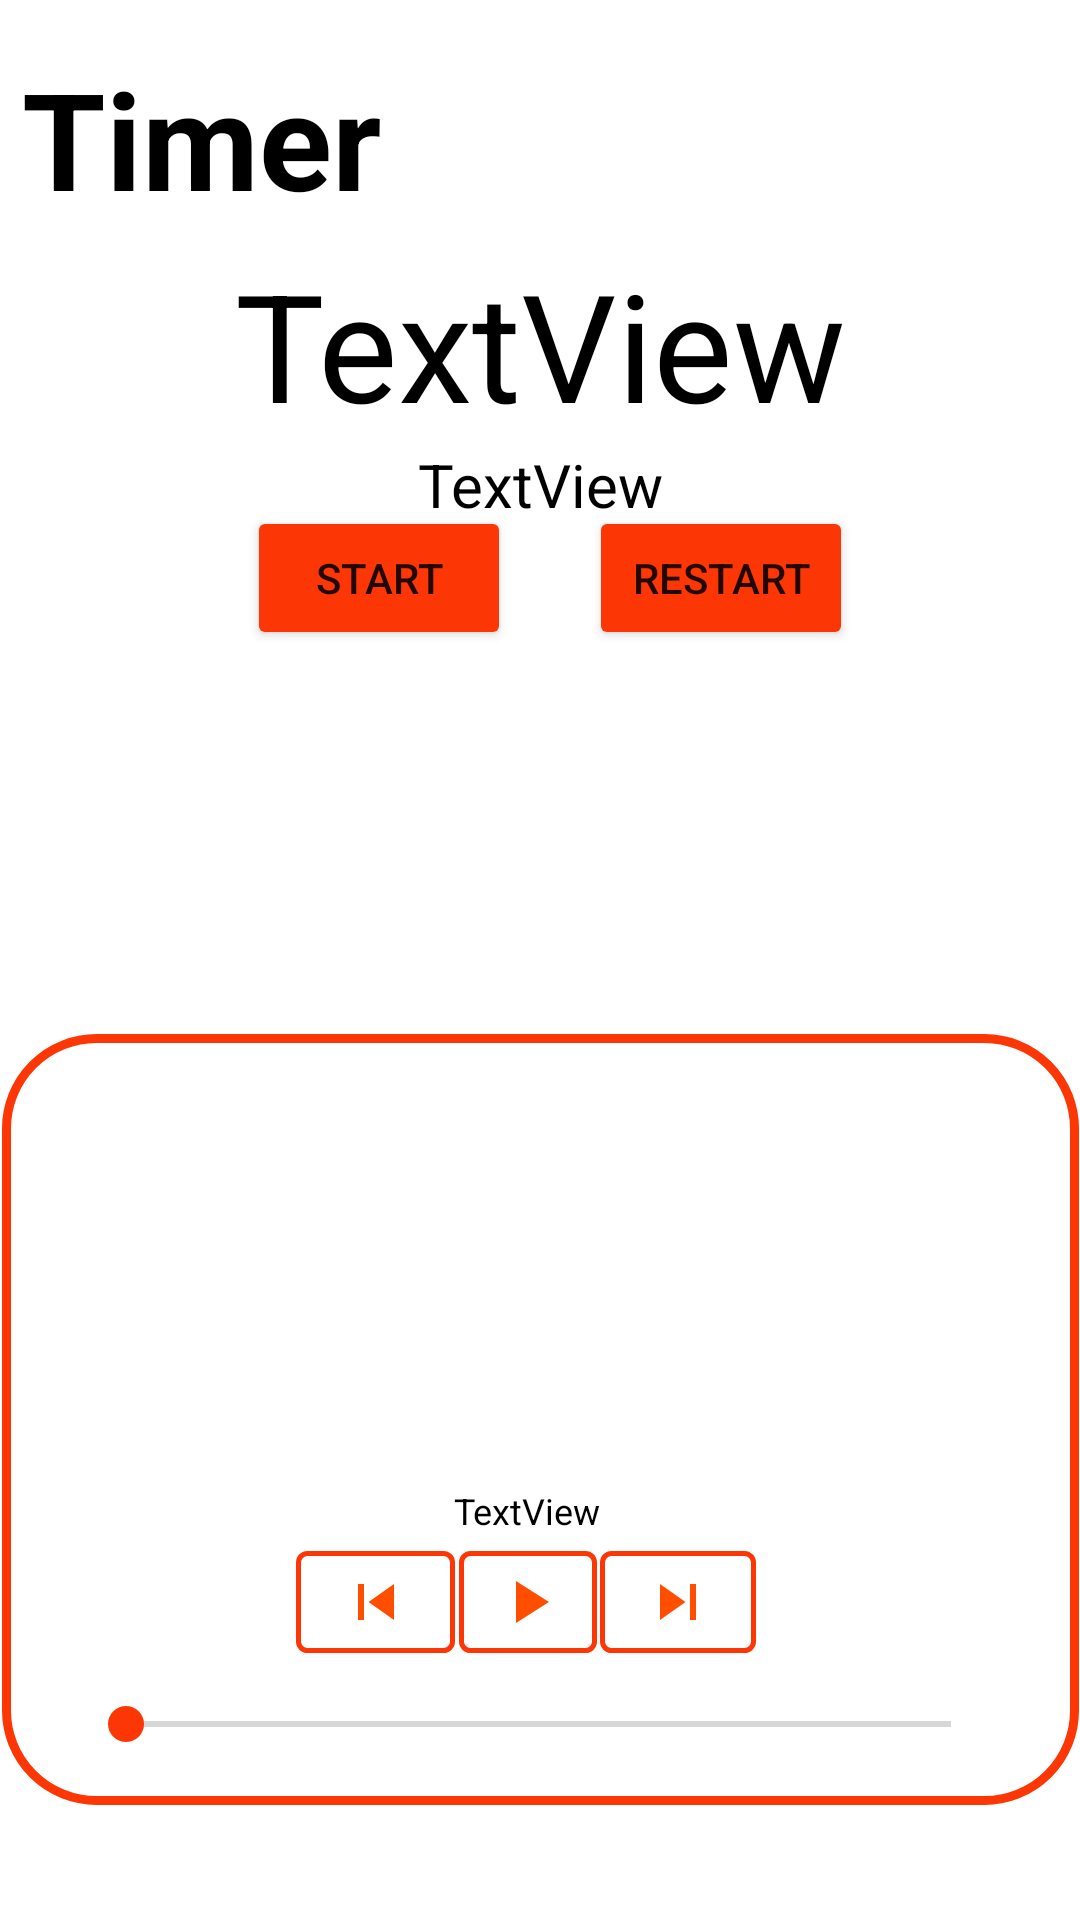

Screen size 1080px×1920px. Icon name, then its center in pixels as (x,y):
next: (678,1602)
play: (528,1602)
previous: (375,1602)
